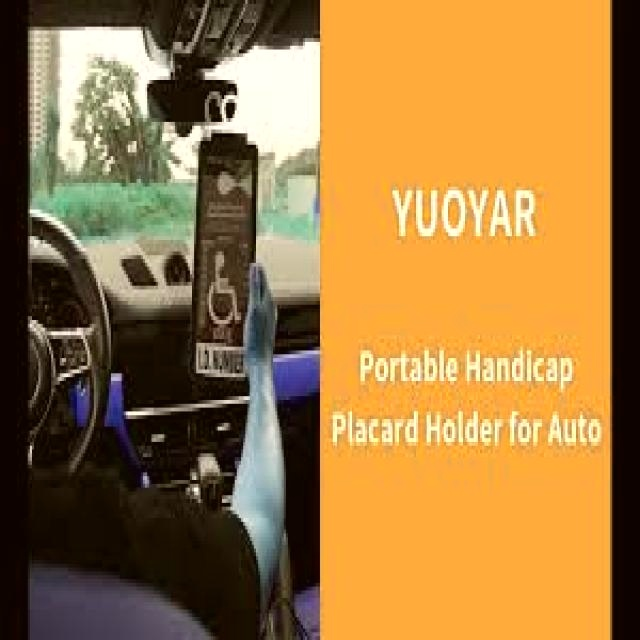ISA: (205, 249, 243, 329)
